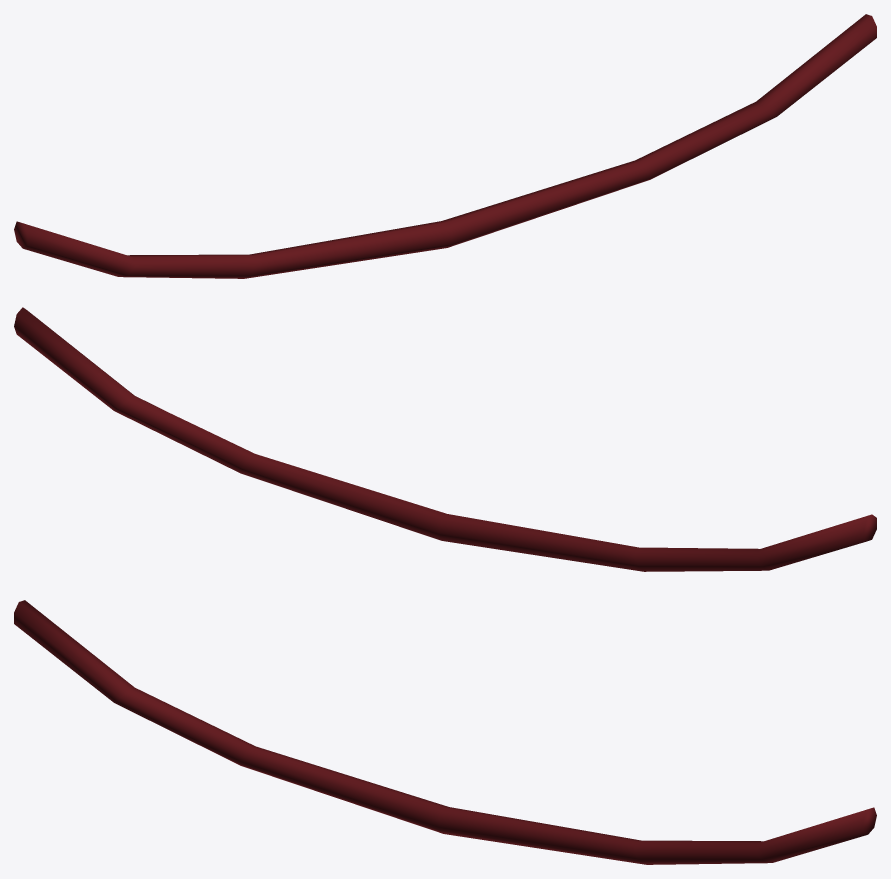
Rendered from Rope.fbx.
3 renders of one model, top to bottom at view 1: azimuth 30°, elevation 25°; view 2: azimuth 150°, elevation 25°; view 3: azimuth 330°, elevation 25°, orthographic.
Parts seen in each view (by area): view 1: Rope; view 2: Rope; view 3: Rope.
Boxes of the visible parts, box(x1,y1,x2,y2) form: Rope: box(14, 14, 876, 278); Rope: box(14, 307, 876, 571); Rope: box(14, 600, 876, 864).
Size of the model in its own units: 1.96 by 0.2833 by 0.0547.
